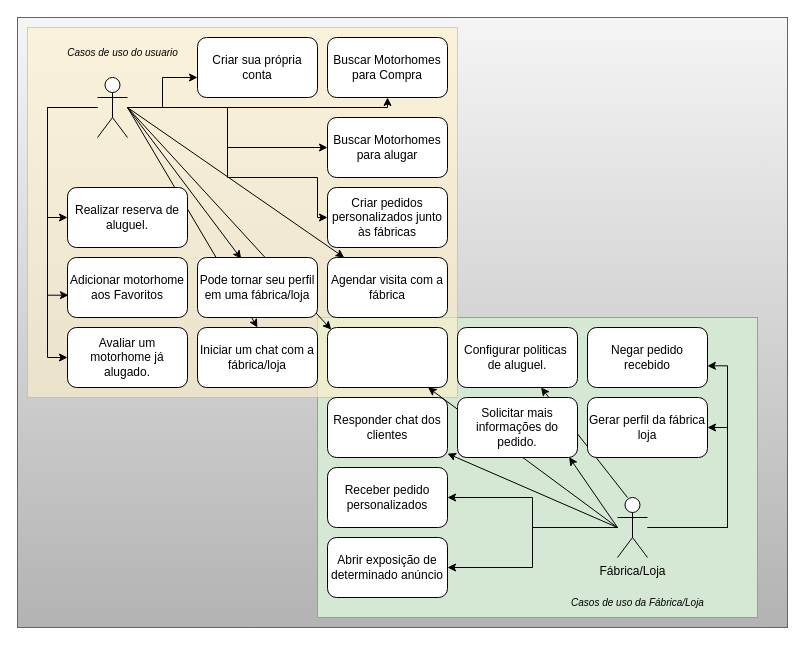
Image size: 805x645. Some labels were removed from this diagram. The box of each missing label's shape, as (x1, y1, x2, y2) in pixels:
Cadastrar seu motorhome para venda ou alocação: (326, 326, 448, 388)
Usuário comum: (96, 76, 128, 138)
